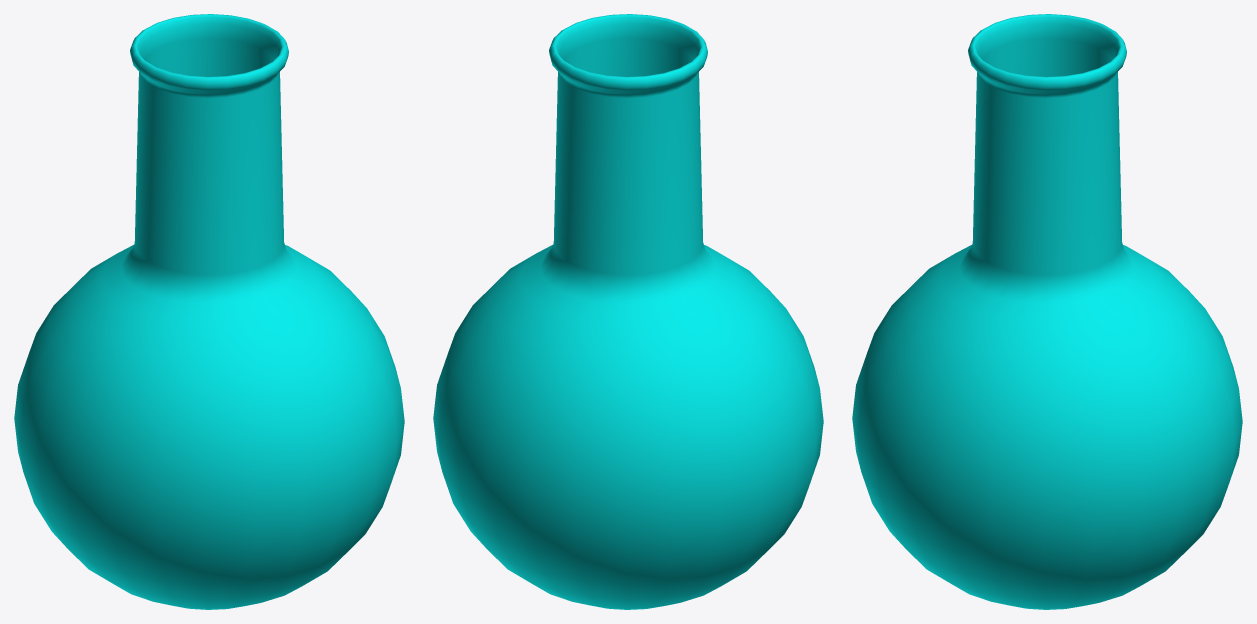
The model's file is SM_Flask6.fbx.
The picture shows the model from 3 angles, left to right: view 1: azimuth 30°, elevation 25°; view 2: azimuth 150°, elevation 25°; view 3: azimuth 270°, elevation 25°; orthographic projection.
Parts seen in each view (by area): view 1: Flask6; view 2: Flask6; view 3: Flask6.
Boxes of the visible parts, bbox=[...] form: Flask6: bbox=[14, 14, 404, 609]; Flask6: bbox=[433, 14, 823, 609]; Flask6: bbox=[852, 14, 1242, 609].
Size of what is drawn, in the model's own units: 12 by 18.5 by 12.
